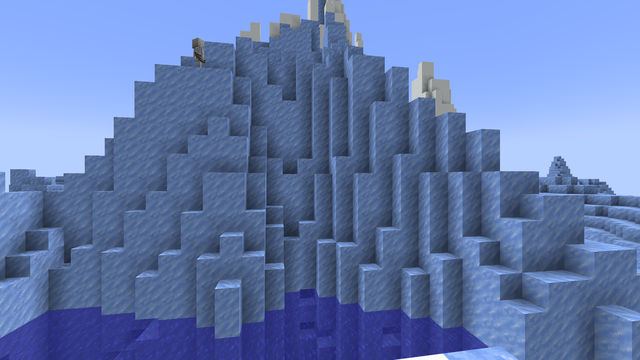squelettes: (191, 37, 203, 66)
